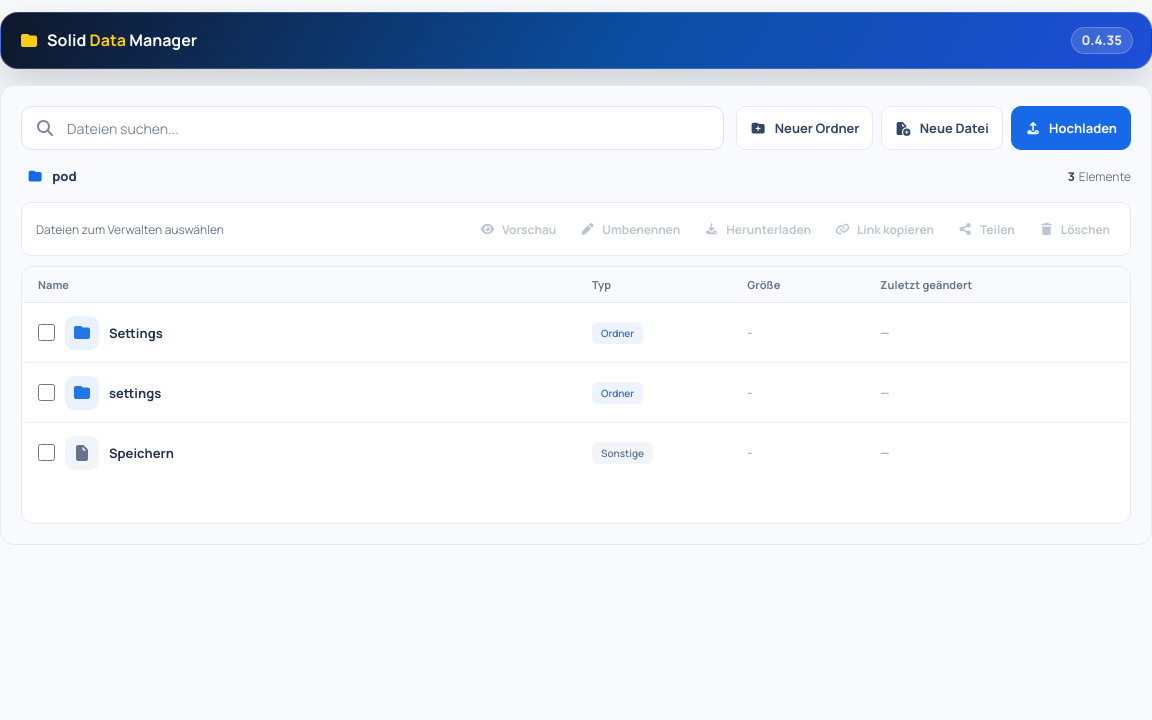
Test: keeps exact folder and file names when changing language and navigating
The width and height of the screenshot is (1152, 720).
expect the button "settings" is shown: met, box [109,382,161,404]
expect the text "Speichern" is shown: met, box [109,444,174,462]
Click the button "Settings" at [136, 333], box [109,322,163,344]
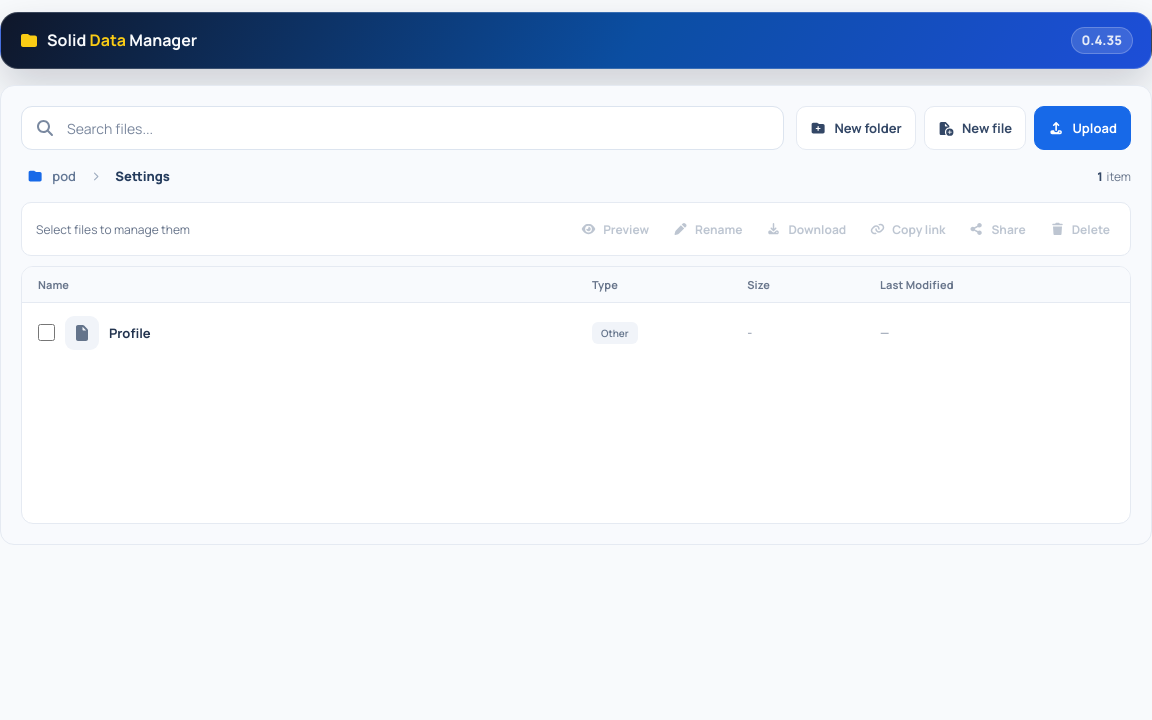
expect the text "Profile" is shown: met, box [109,324,151,342]
expect the navigation bar with class "crumb" reads "pod Settings": met, box [21,156,176,196]
